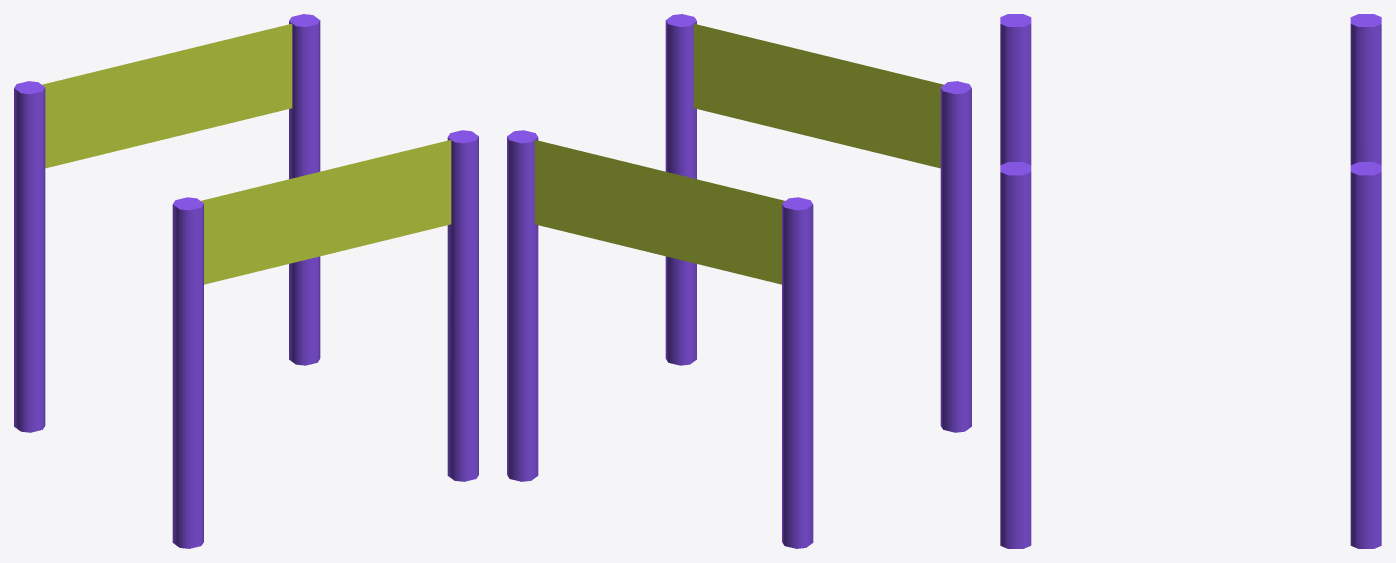
File: banner_double_high.fbx
The picture shows the model from 3 angles, left to right: view 1: azimuth 30°, elevation 25°; view 2: azimuth 150°, elevation 25°; view 3: azimuth 270°, elevation 25°; orthographic projection. The views are drawn at different scales.
Parts seen in each view (by area): view 1: banner_double_high; view 2: banner_double_high; view 3: banner_double_high.
Part boxes in pixels (x1,y1,x2,y2): banner_double_high: (14,14,478,548); banner_double_high: (507,14,971,548); banner_double_high: (1000,14,1381,548).
Size of the model in its own units: 9.25 by 10 by 9.25.
